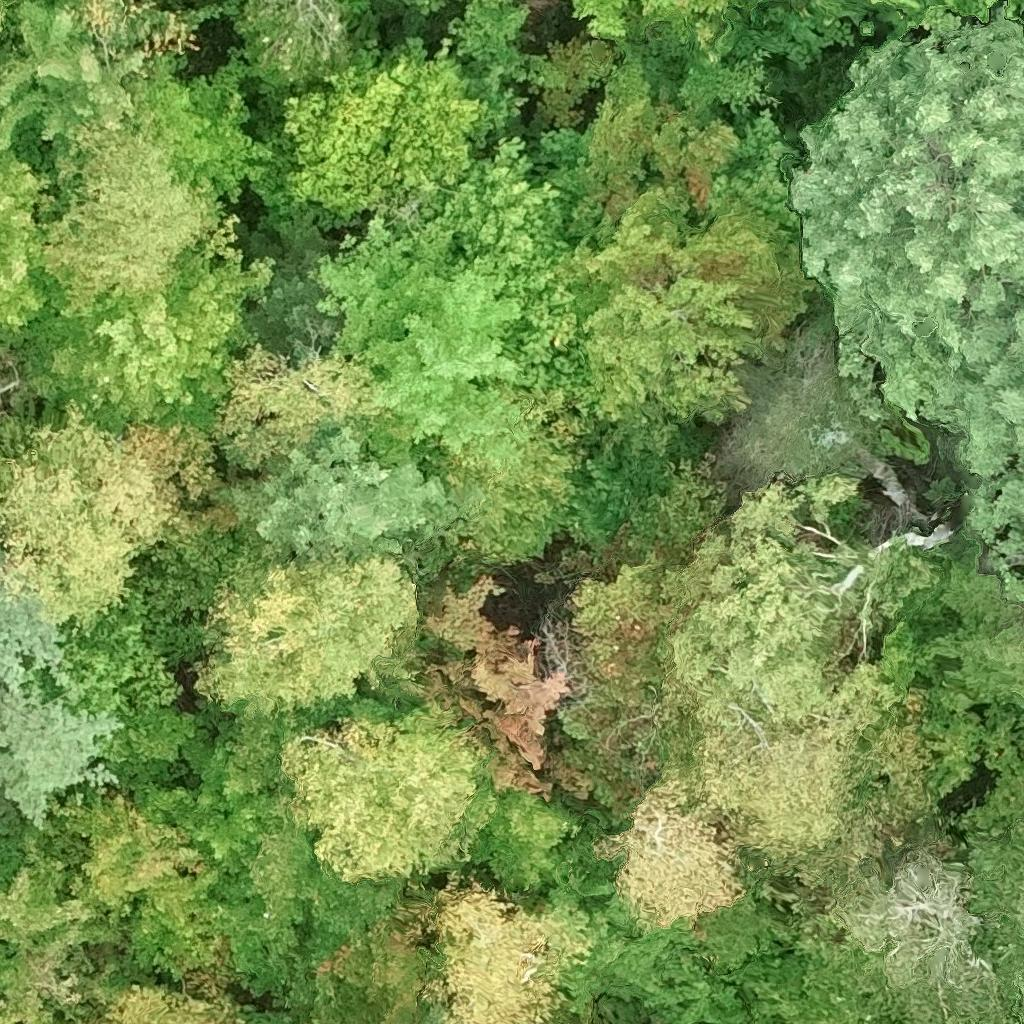crown: (784, 0, 1023, 418), (112, 695, 410, 1012), (549, 189, 823, 467), (665, 471, 943, 731), (533, 453, 724, 823), (786, 772, 1023, 1023), (306, 214, 532, 472), (653, 659, 933, 866), (544, 29, 804, 246), (20, 215, 275, 433), (249, 33, 529, 229), (386, 137, 579, 388), (0, 403, 214, 629), (18, 575, 214, 766), (0, 0, 221, 167), (284, 706, 489, 882), (46, 782, 226, 981), (195, 555, 417, 716), (49, 113, 217, 315), (421, 575, 572, 799), (233, 416, 455, 564), (0, 582, 121, 826), (592, 758, 752, 930), (0, 821, 126, 1023), (923, 312, 1023, 564), (418, 881, 593, 1023), (446, 0, 620, 135), (120, 54, 272, 202), (207, 344, 382, 470), (225, 212, 342, 370), (611, 0, 874, 68), (924, 564, 1023, 730), (224, 0, 374, 90), (0, 147, 71, 332), (962, 820, 1023, 1007), (101, 985, 245, 1023), (866, 0, 988, 38), (572, 0, 629, 38), (406, 999, 446, 1023), (404, 0, 450, 11), (1002, 0, 1023, 22), (1016, 976, 1023, 1015), (0, 0, 6, 39), (0, 547, 2, 568)
